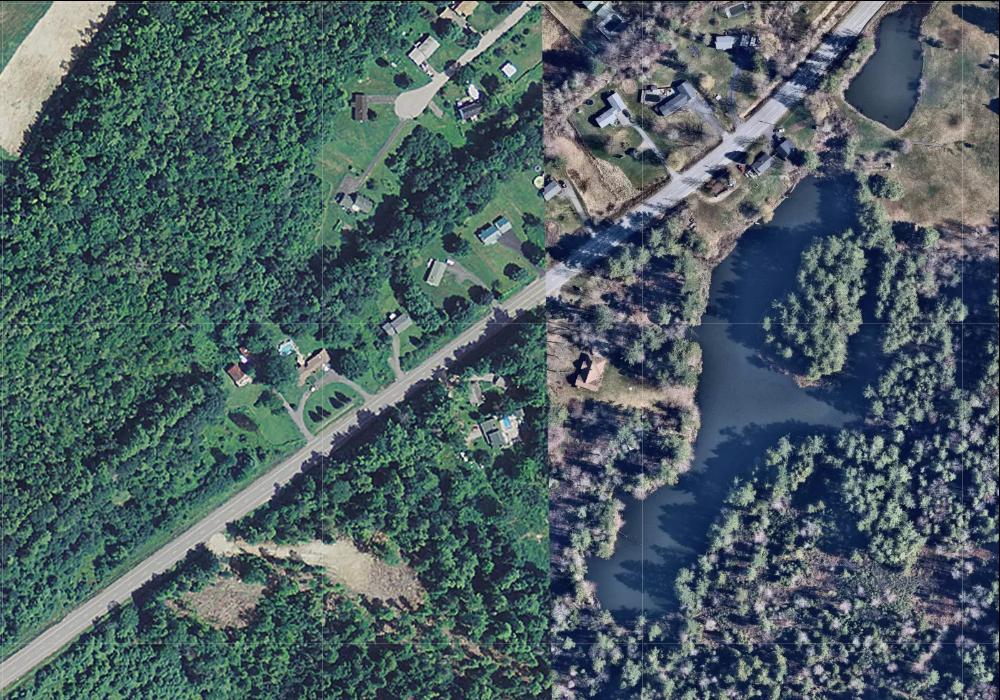plane: (908, 126, 948, 163)
